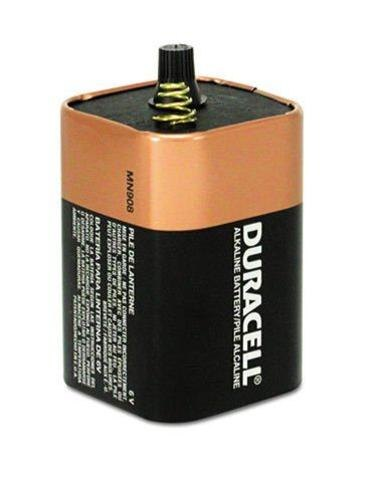6V: (50, 39, 316, 431)
